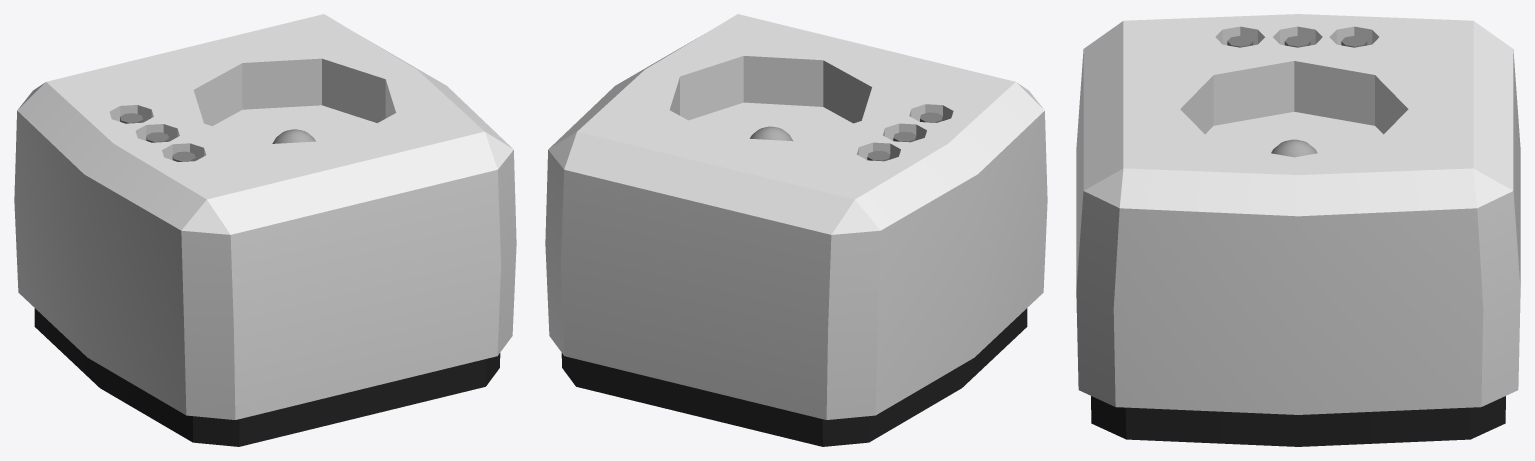
Rendered from UCAM_2D.fbx.
The picture shows the model from 3 angles, left to right: view 1: azimuth 30°, elevation 25°; view 2: azimuth 150°, elevation 25°; view 3: azimuth 270°, elevation 25°; orthographic projection. The views are drawn at different scales.
Visible parts, largest first — view 1: G, A; view 2: G, A; view 3: G, A, F.
Part boxes in pixels (<box>): G: <box>14,14,516,419</box>; A: <box>34,308,500,446</box>; G: <box>545,14,1047,419</box>; A: <box>561,308,1027,446</box>; G: <box>1076,14,1520,414</box>; A: <box>1091,396,1505,446</box>; F: <box>1271,139,1317,157</box>.
Bounding box in the file's own units: 9.58 × 6.08 × 9.33.
2 materials, 1 textured.
